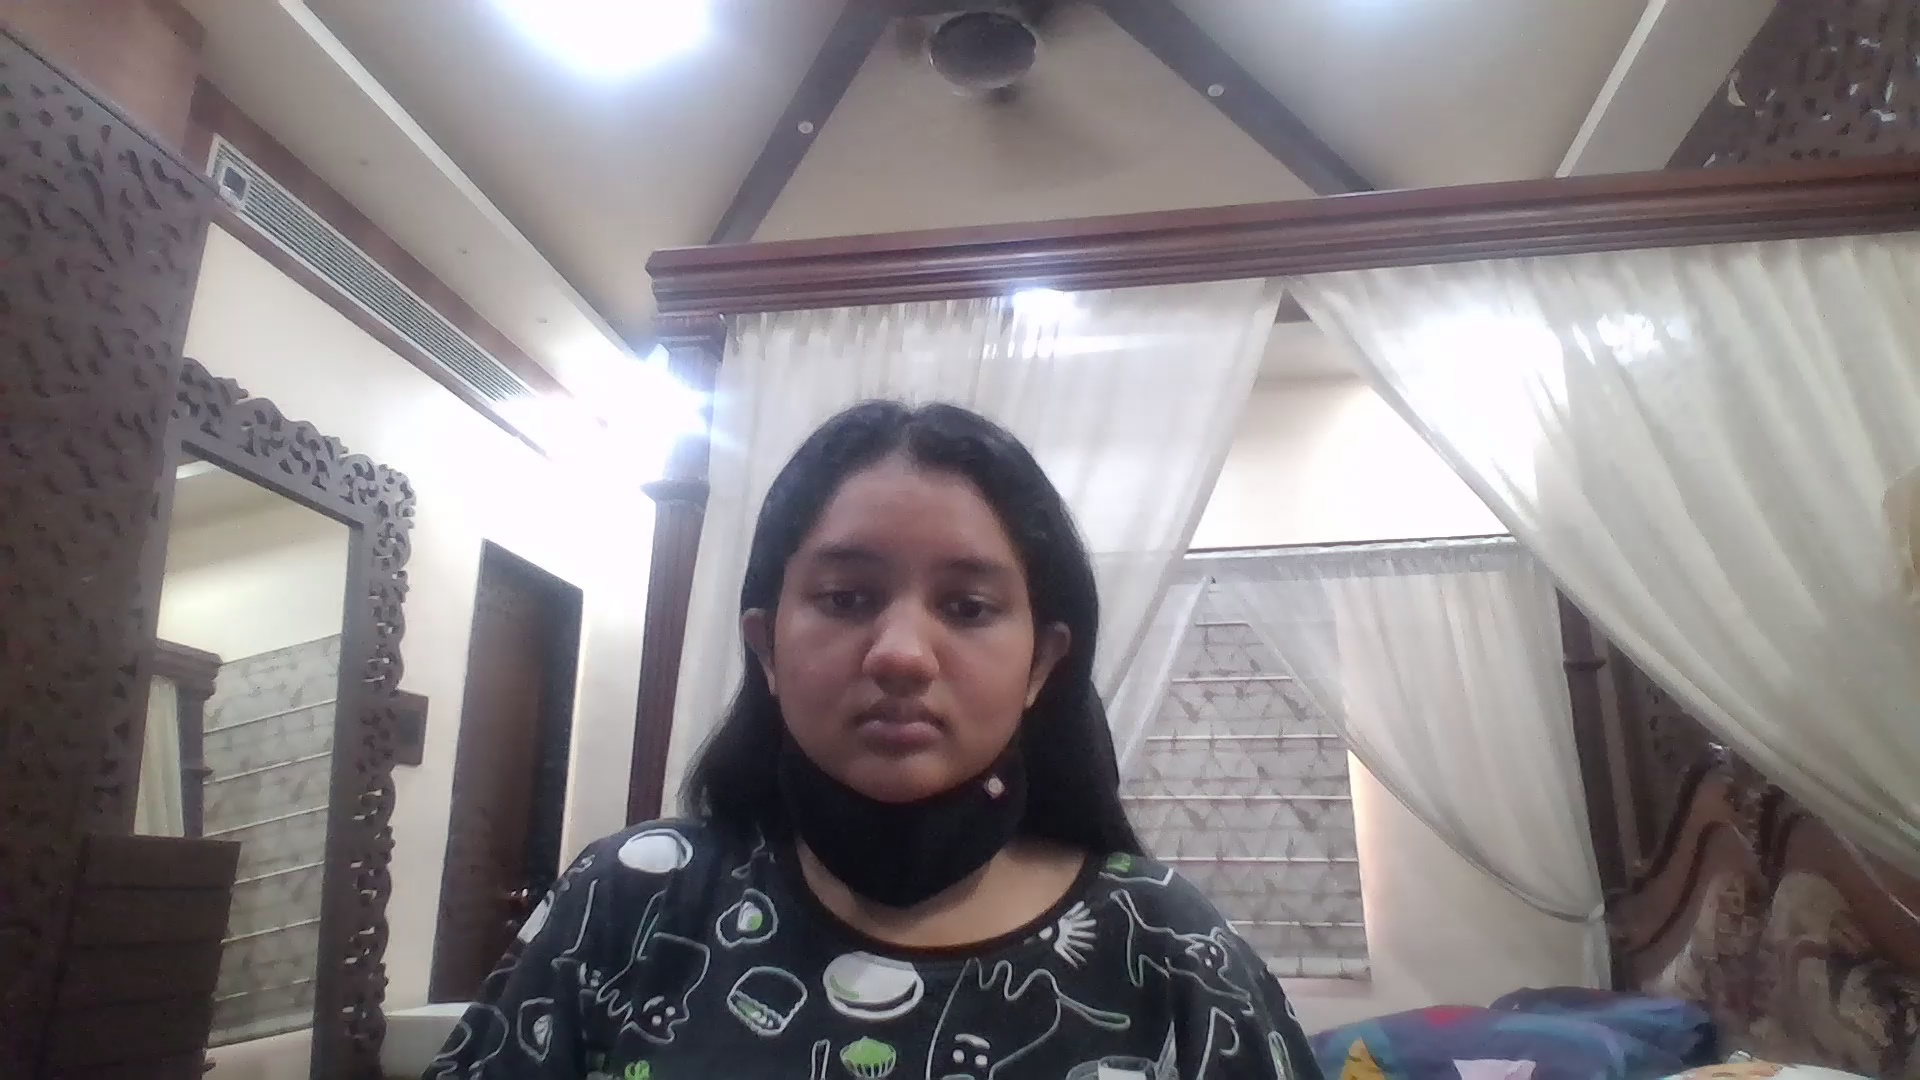No Mask: (784, 639, 1031, 820)
